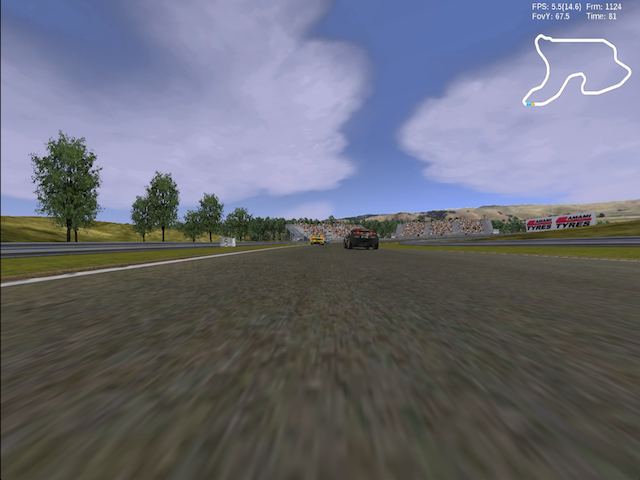Cavallo360: (309, 237, 325, 246)
Spirit300: (343, 229, 379, 250)
